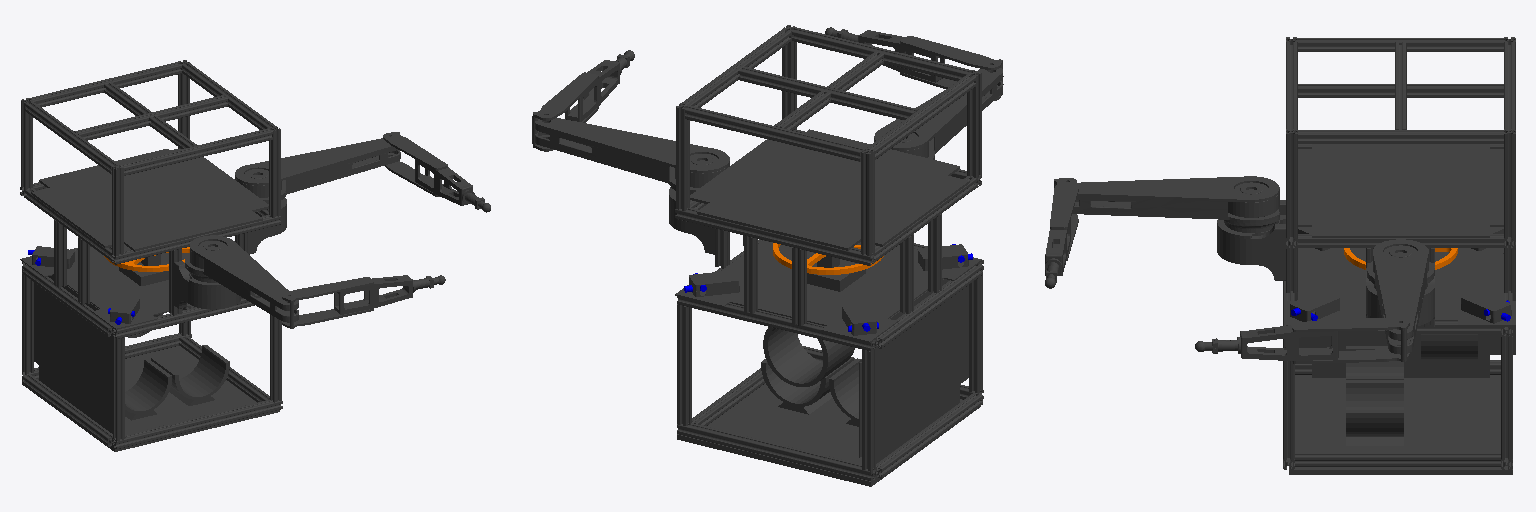
The robot description file, URDF, robot "pingu_v3":
<?xml version="1.0" ?>
<!-- =================================================================================== -->
<!-- |    This document was autogenerated by xacro from /UniLuFP/ros_ws/install/pingu_description/share/pingu_description/urdf/unilu_fp.urdf.xacro | -->
<!-- |    EDITING THIS FILE BY HAND IS NOT RECOMMENDED                                 | -->
<!-- =================================================================================== -->
<robot name="pingu_v3">
 <material name="levion_black">
  <color rgba="0.3 0.3 0.3 1.0"/>
 </material>
 <material name="orange">
  <color rgba="1.0 0.5 0.0 1.0"/>
 </material>
 <material name="elec_blue">
  <color rgba="0.0 0.0 1.0 1.0"/>
 </material>
 <!-- World Link -->
 <link name="world"/>
 <!-- Joins and Links for Floating -->
 <link name="anchor_link"/>
 <joint name="anchor_joint" type="fixed">
  <origin rpy="0 0 0" xyz="0 0 0.05"/>
  <parent link="world"/>
  <child link="anchor_link"/>
 </joint>
 <link name="x_lock_link"/>
 <joint name="x_lock_joint" type="prismatic">
  <origin rpy="0 0 0" xyz="0 0 0"/>
  <parent link="anchor_link"/>
  <child link="x_lock_link"/>
  <axis xyz="1 0 0"/>
  <limit effort="10.0" lower="-10" upper="10" velocity="10"/>
 </joint>
 <link name="y_lock_link"/>
 <joint name="y_lock_joint" type="prismatic">
  <origin rpy="0 0 0" xyz="0 0 0"/>
  <parent link="x_lock_link"/>
  <child link="y_lock_link"/>
  <axis xyz="0 1 0"/>
  <limit effort="10.0" lower="-10" upper="10" velocity="10"/>
 </joint>
 <!-- Base Join and Link-->
 <link name="base_link">
  <visual>
   <geometry>
    <mesh filename="package://pingu_description/mesh/minimalist.stl" scale="0.001 0.001 0.001"/>
   </geometry>
   <material name="levion_black"/>
   <origin rpy="0 0 -1.57079632675" xyz="0 0 0"/>
  </visual>
  <collision>
   <geometry>
    <mesh filename="package://pingu_description/mesh/minimalist.stl" scale="0.001 0.001 0.001"/>
   </geometry>
   <origin rpy="0 0  -1.57079632675" xyz="0 0 0"/>
   <!-- 0 0 0.3276 for box -->
  </collision>
  <inertial>
   <mass value="23.0"/>
   <origin rpy="0 0  -1.57079632675" xyz="0 0 0.3276"/>
   <inertia ixx="0.7" ixy="0" ixz="0" iyy="0.7" iyz="0" izz="0.5"/>
  </inertial>
 </link>
 <joint name="base_joint" type="revolute">
  <origin rpy="0 0 0" xyz="0 0 0"/>
  <parent link="y_lock_link"/>
  <child link="base_link"/>
  <axis xyz="0 0 1"/>
  <limit effort="10.0" lower="-10" upper="10" velocity="10"/>
  <!-- <dynamics damping="0.5" friction="0.0"/> -->
 </joint>
 <!-- Base Link -->
 <link name="rw_base">
  <visual>
   <origin rpy="0 0 0" xyz="0 0 0"/>
   <geometry>
    <mesh filename="package://pingu_description/mesh/minimalist_motor_holder.stl" scale="0.001 0.001 0.001"/>
   </geometry>
   <material name="levion_black"/>
  </visual>
 </link>
 <joint name="rw_base_joint" type="fixed">
  <origin rpy="0 0 0" xyz="0 0 .2875"/>
  <parent link="base_link"/>
  <child link="rw_base"/>
 </joint>
 <!-- Middle Link -->
 <link name="rw_rotor">
  <visual>
   <origin rpy="0 0 0" xyz="0 0 0"/>
   <geometry>
    <mesh filename="package://pingu_description/mesh/minimalist_reaction_wheel.stl" scale="0.001 0.001 0.001"/>
   </geometry>
   <material name="orange"/>
  </visual>
  <inertial>
   <origin rpy="0 0 0" xyz="0 0 0"/>
   <mass value="0.172"/>
   <inertia ixx="0.06" ixy="0.0" ixz="0.0" iyy="0.06" iyz="0.0" izz="0.1"/>
  </inertial>
 </link>
 <joint name="rw_revolute_joint" type="revolute">
  <parent link="rw_base"/>
  <child link="rw_rotor"/>
  <origin rpy="0 0 0" xyz="0 0 0.05"/>
  <axis xyz="0 0 1"/>
  <limit effort="10.0" lower="-1e9" upper="1e9" velocity="100"/>
  <dynamics damping="0.5" friction="0.5"/>
 </joint>
 <!-- Middle Fix Link -->
 <!-- <link name="${prefix}rw_fixed_rotor"></link>

  <joint name="${prefix}rw_fixed_joint" type="fixed">
    <parent link="${prefix}rw_base"/>
    <child link="${prefix}rw_fixed_rotor"/>
    <origin xyz="0 0 0.05" rpy="0 0 0"/>
    <axis xyz="0 0 1"/>
    <limit effort="10.0" lower="-1e9" upper="1e9" velocity="100"/>
    <dynamics damping="0.5" friction="0.5"/>
  </joint> -->
 <joint name="left_base_joint" type="fixed">
  <origin rpy="0 0 0" xyz="0.26 0 .3475"/>
  <parent link="base_link"/>
  <child link="left_link0"/>
 </joint>
 <link name="left_link0">
  <visual>
   <origin rpy="0 0 0" xyz="0 0 0"/>
   <geometry>
    <mesh filename="package://pingu_description/mesh/arm_link_0.stl" scale="1 1 1"/>
   </geometry>
   <material name="levion_black"/>
  </visual>
  <collision>
   <origin rpy="0 0 0" xyz="0 0 0"/>
   <geometry>
    <mesh filename="package://pingu_description/mesh/arm_link_0.stl" scale="1 1 1"/>
   </geometry>
  </collision>
  <inertial>
   <origin rpy="0 0 0" xyz="0 0 0"/>
   <mass value="0.5"/>
   <inertia ixx="0.0005" ixy="0.0" ixz="0.0" iyy="0.0005" iyz="0.0" izz="0.0005"/>
  </inertial>
 </link>
 <link name="left_link1">
  <visual>
   <origin rpy="0 0 0" xyz="0 0 0"/>
   <geometry>
    <mesh filename="package://pingu_description/mesh/arm_link_1.stl" scale="1 1 1"/>
   </geometry>
   <material name="levion_black"/>
  </visual>
  <collision>
   <origin rpy="0 0 0" xyz="0 0 0"/>
   <geometry>
    <mesh filename="package://pingu_description/mesh/arm_link_1.stl" scale="1 1 1"/>
   </geometry>
  </collision>
  <inertial>
   <origin rpy="0 0 0" xyz="0.05 0 0"/>
   <mass value="0.6"/>
   <inertia ixx="0.0006" ixy="0.0" ixz="0.0" iyy="0.0006" iyz="0.0" izz="0.0006"/>
  </inertial>
 </link>
 <link name="left_link2">
  <visual>
   <origin rpy="3.1415926535 0 0" xyz="0 0 0"/>
   <geometry>
    <mesh filename="package://pingu_description/mesh/arm_link_2.stl" scale="1 1 1"/>
   </geometry>
   <material name="levion_black"/>
  </visual>
  <collision>
   <origin rpy="3.1415926535 0 0" xyz="0 0 0"/>
   <geometry>
    <mesh filename="package://pingu_description/mesh/arm_link_2.stl" scale="1 1 1"/>
   </geometry>
  </collision>
  <inertial>
   <origin rpy="0 0 0" xyz="0 0 0"/>
   <mass value="0.1"/>
   <inertia ixx="0.0001" ixy="0.0" ixz="0.0" iyy="0.0001" iyz="0.0" izz="0.0001"/>
  </inertial>
 </link>
 <link name="left_tool_link">
  </link>
 <joint name="left_shoulder_joint" type="revolute">
  <origin rpy="0 0 0" xyz="0 0 0.0439"/>
  <parent link="left_link0"/>
  <child link="left_link1"/>
  <axis xyz="0 0 1"/>
  <limit effort="10" lower="-1.56079632675" upper="1.56079632675" velocity="10"/>
 </joint>
 <joint name="left_elbow_joint" type="revolute">
  <origin rpy="0 0 0" xyz="0.32 0 0.04685"/>
  <parent link="left_link1"/>
  <child link="left_link2"/>
  <axis xyz="0 0 1"/>
  <limit effort="10" lower="-2.6050000000000004" upper="-0.359" velocity="10"/>
 </joint>
 <joint name="left_tool_joint" type="fixed">
  <origin rpy="1.57079632675 0 1.57079632675" xyz=".255 0 0"/>
  <parent link="left_link2"/>
  <child link="left_tool_link"/>
 </joint>
 <joint name="right_base_joint" type="fixed">
  <origin rpy="0 0 -1.57079632675" xyz="0 -0.26 .3475"/>
  <parent link="base_link"/>
  <child link="right_link0"/>
 </joint>
 <link name="right_link0">
  <visual>
   <origin rpy="0 0 0" xyz="0 0 0"/>
   <geometry>
    <mesh filename="package://pingu_description/mesh/arm_link_0.stl" scale="1 1 1"/>
   </geometry>
   <material name="levion_black"/>
  </visual>
  <collision>
   <origin rpy="0 0 0" xyz="0 0 0"/>
   <geometry>
    <mesh filename="package://pingu_description/mesh/arm_link_0.stl" scale="1 1 1"/>
   </geometry>
  </collision>
  <inertial>
   <origin rpy="0 0 0" xyz="0 0 0"/>
   <mass value="0.5"/>
   <inertia ixx="0.0005" ixy="0.0" ixz="0.0" iyy="0.0005" iyz="0.0" izz="0.0005"/>
  </inertial>
 </link>
 <link name="right_link1">
  <visual>
   <origin rpy="0 0 0" xyz="0 0 0"/>
   <geometry>
    <mesh filename="package://pingu_description/mesh/arm_link_1.stl" scale="1 1 1"/>
   </geometry>
   <material name="levion_black"/>
  </visual>
  <collision>
   <origin rpy="0 0 0" xyz="0 0 0"/>
   <geometry>
    <mesh filename="package://pingu_description/mesh/arm_link_1.stl" scale="1 1 1"/>
   </geometry>
  </collision>
  <inertial>
   <origin rpy="0 0 0" xyz="0.05 0 0"/>
   <mass value="0.6"/>
   <inertia ixx="0.0006" ixy="0.0" ixz="0.0" iyy="0.0006" iyz="0.0" izz="0.0006"/>
  </inertial>
 </link>
 <link name="right_link2">
  <visual>
   <origin rpy="0 0 0" xyz="0 0 0"/>
   <geometry>
    <mesh filename="package://pingu_description/mesh/arm_link_2.stl" scale="1 1 1"/>
   </geometry>
   <material name="levion_black"/>
  </visual>
  <collision>
   <origin rpy="0 0 0" xyz="0 0 0"/>
   <geometry>
    <mesh filename="package://pingu_description/mesh/arm_link_2.stl" scale="1 1 1"/>
   </geometry>
  </collision>
  <inertial>
   <origin rpy="0 0 0" xyz="0 0 0"/>
   <mass value="0.1"/>
   <inertia ixx="0.0001" ixy="0.0" ixz="0.0" iyy="0.0001" iyz="0.0" izz="0.0001"/>
  </inertial>
 </link>
 <link name="right_tool_link">
  </link>
 <joint name="right_shoulder_joint" type="revolute">
  <origin rpy="0 0 0" xyz="0 0 0.0439"/>
  <parent link="right_link0"/>
  <child link="right_link1"/>
  <axis xyz="0 0 1"/>
  <limit effort="10" lower="-1.56079632675" upper="1.56079632675" velocity="10"/>
 </joint>
 <joint name="right_elbow_joint" type="revolute">
  <origin rpy="0 0 0" xyz="0.32 0 0.04685"/>
  <parent link="right_link1"/>
  <child link="right_link2"/>
  <axis xyz="0 0 1"/>
  <limit effort="10" lower="0.359" upper="2.6050000000000004" velocity="10"/>
 </joint>
 <joint name="right_tool_joint" type="fixed">
  <origin rpy="1.57079632675 0 1.57079632675" xyz=".255 0 0"/>
  <parent link="right_link2"/>
  <child link="right_tool_link"/>
 </joint>
 <!-- Thruster Link -->
 <link name="thruster_1_link">
  <visual>
   <origin rpy="0 0 0" xyz="0 0 0"/>
   <geometry>
    <cylinder length="0.055" radius="0.006"/>
   </geometry>
   <material name="elec_blue"/>
  </visual>
  <parent link="base_link"/>
  <origin rpy="1.57079632675 0 -0.785398163375" xyz="-0.168 0.168 0.295"/>
 </link>
 <joint name="thruster_1_joint" type="fixed">
  <parent link="base_link"/>
  <child link="thruster_1_link"/>
  <origin rpy="1.57079632675 0 -0.785398163375" xyz="-0.168 0.168 0.295"/>
 </joint>
 <!-- Thruster Link -->
 <link name="thruster_2_link">
  <visual>
   <origin rpy="0 0 0" xyz="0 0 0"/>
   <geometry>
    <cylinder length="0.055" radius="0.006"/>
   </geometry>
   <material name="elec_blue"/>
  </visual>
  <parent link="base_link"/>
  <origin rpy="-1.57079632675 0 0.785398163375" xyz="-0.168 0.168 0.305"/>
 </link>
 <joint name="thruster_2_joint" type="fixed">
  <parent link="base_link"/>
  <child link="thruster_2_link"/>
  <origin rpy="-1.57079632675 0 0.785398163375" xyz="-0.168 0.168 0.305"/>
 </joint>
 <!-- Thruster Link -->
 <link name="thruster_3_link">
  <visual>
   <origin rpy="0 0 0" xyz="0 0 0"/>
   <geometry>
    <cylinder length="0.055" radius="0.006"/>
   </geometry>
   <material name="elec_blue"/>
  </visual>
  <parent link="base_link"/>
  <origin rpy="-1.57079632675 0 -0.785398163375" xyz="0.168 0.168 0.295"/>
 </link>
 <joint name="thruster_3_joint" type="fixed">
  <parent link="base_link"/>
  <child link="thruster_3_link"/>
  <origin rpy="-1.57079632675 0 -0.785398163375" xyz="0.168 0.168 0.295"/>
 </joint>
 <!-- Thruster Link -->
 <link name="thruster_4_link">
  <visual>
   <origin rpy="0 0 0" xyz="0 0 0"/>
   <geometry>
    <cylinder length="0.055" radius="0.006"/>
   </geometry>
   <material name="elec_blue"/>
  </visual>
  <parent link="base_link"/>
  <origin rpy="1.57079632675 0 0.785398163375" xyz="0.168 0.168 0.305"/>
 </link>
 <joint name="thruster_4_joint" type="fixed">
  <parent link="base_link"/>
  <child link="thruster_4_link"/>
  <origin rpy="1.57079632675 0 0.785398163375" xyz="0.168 0.168 0.305"/>
 </joint>
 <!-- Thruster Link -->
 <link name="thruster_5_link">
  <visual>
   <origin rpy="0 0 0" xyz="0 0 0"/>
   <geometry>
    <cylinder length="0.055" radius="0.006"/>
   </geometry>
   <material name="elec_blue"/>
  </visual>
  <parent link="base_link"/>
  <origin rpy="-1.57079632675 0 0.785398163375" xyz="0.168 -0.168 0.305"/>
 </link>
 <joint name="thruster_5_joint" type="fixed">
  <parent link="base_link"/>
  <child link="thruster_5_link"/>
  <origin rpy="-1.57079632675 0 0.785398163375" xyz="0.168 -0.168 0.305"/>
 </joint>
 <!-- Thruster Link -->
 <link name="thruster_6_link">
  <visual>
   <origin rpy="0 0 0" xyz="0 0 0"/>
   <geometry>
    <cylinder length="0.055" radius="0.006"/>
   </geometry>
   <material name="elec_blue"/>
  </visual>
  <parent link="base_link"/>
  <origin rpy="1.57079632675 0 -0.785398163375" xyz="0.168 -0.168 0.295"/>
 </link>
 <joint name="thruster_6_joint" type="fixed">
  <parent link="base_link"/>
  <child link="thruster_6_link"/>
  <origin rpy="1.57079632675 0 -0.785398163375" xyz="0.168 -0.168 0.295"/>
 </joint>
 <!-- Thruster Link -->
 <link name="thruster_7_link">
  <visual>
   <origin rpy="0 0 0" xyz="0 0 0"/>
   <geometry>
    <cylinder length="0.055" radius="0.006"/>
   </geometry>
   <material name="elec_blue"/>
  </visual>
  <parent link="base_link"/>
  <origin rpy="1.57079632675 0 0.785398163375" xyz="-0.168 -0.168 0.305"/>
 </link>
 <joint name="thruster_7_joint" type="fixed">
  <parent link="base_link"/>
  <child link="thruster_7_link"/>
  <origin rpy="1.57079632675 0 0.785398163375" xyz="-0.168 -0.168 0.305"/>
 </joint>
 <!-- Thruster Link -->
 <link name="thruster_8_link">
  <visual>
   <origin rpy="0 0 0" xyz="0 0 0"/>
   <geometry>
    <cylinder length="0.055" radius="0.006"/>
   </geometry>
   <material name="elec_blue"/>
  </visual>
  <parent link="base_link"/>
  <origin rpy="-1.57079632675 0 -0.785398163375" xyz="-0.168 -0.168 0.295"/>
 </link>
 <joint name="thruster_8_joint" type="fixed">
  <parent link="base_link"/>
  <child link="thruster_8_link"/>
  <origin rpy="-1.57079632675 0 -0.785398163375" xyz="-0.168 -0.168 0.295"/>
 </joint>
</robot>

--- Facts derived from the render (not from the file) ---
3 views of the same robot in one strip: view 1: azimuth 30°, elevation 25°; view 2: azimuth 150°, elevation 25°; view 3: azimuth 270°, elevation 25° (orthographic).
Model pingu_v3 with 23 links and 22 joints (6 revolute, 2 prismatic, 14 fixed), rooted at world, posed all joints at 0 but 2 set to mid-range because 0 is outside their limits (left_elbow_joint = -1.48, right_elbow_joint = 1.48).
Visible links, largest first — view 1: base_link, left_link1, right_link1, right_link2, left_link2, right_link0, rw_base, left_link0; view 2: base_link, left_link1, left_link2, right_link1, right_link2, rw_base, left_link0, rw_rotor; view 3: base_link, right_link1, left_link2, left_link1, right_link0, right_link2, left_link0.
Boxes of the visible links, x1,y1,x2,y2 form: base_link: (20, 60, 282, 451); left_link1: (235, 138, 400, 203); right_link1: (185, 235, 298, 322); right_link2: (282, 275, 445, 328); left_link2: (383, 132, 490, 212); right_link0: (174, 261, 241, 309); rw_base: (119, 253, 168, 285); left_link0: (248, 198, 286, 254); base_link: (675, 25, 983, 486); left_link1: (535, 118, 729, 194); left_link2: (532, 50, 634, 151); right_link1: (874, 68, 1003, 159); right_link2: (825, 27, 1002, 100); rw_base: (807, 253, 865, 291); left_link0: (669, 187, 714, 254); rw_rotor: (773, 243, 883, 274); base_link: (1283, 37, 1515, 474); right_link1: (1072, 176, 1279, 229); left_link2: (1195, 318, 1409, 363); left_link1: (1367, 239, 1434, 354); right_link0: (1217, 200, 1285, 280); right_link2: (1045, 178, 1078, 288); left_link0: (1366, 263, 1434, 325).
Size in the robot's own frame: 0.831 by 0.821 by 0.6551 metres.
9 mesh visuals loaded from 6 distinct referenced files (6 binary STL).
